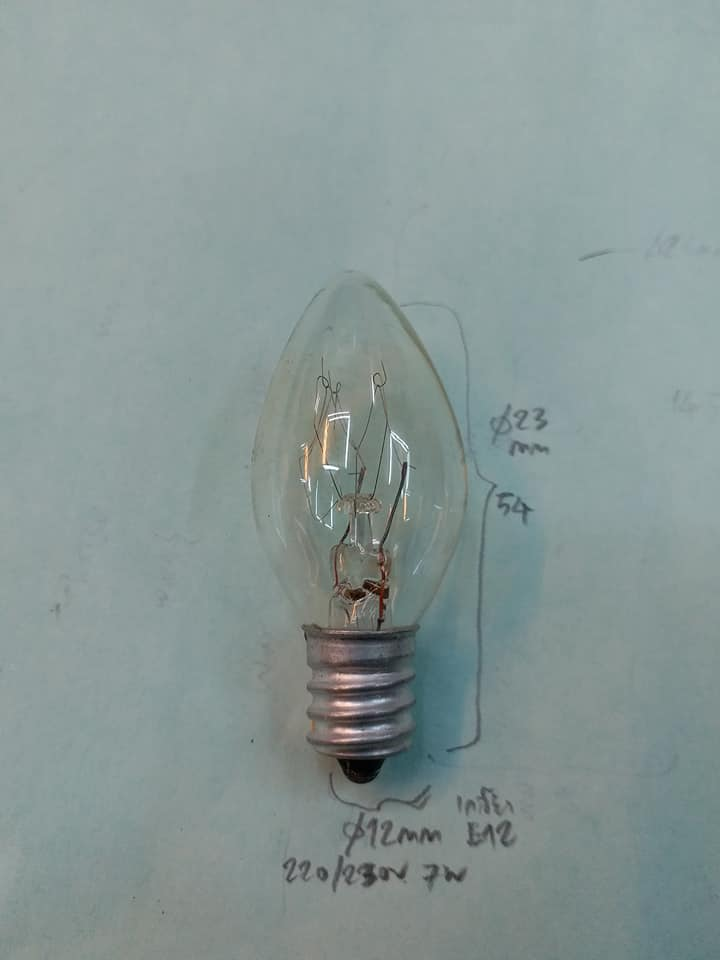Light bulb: (241, 260, 476, 793)
